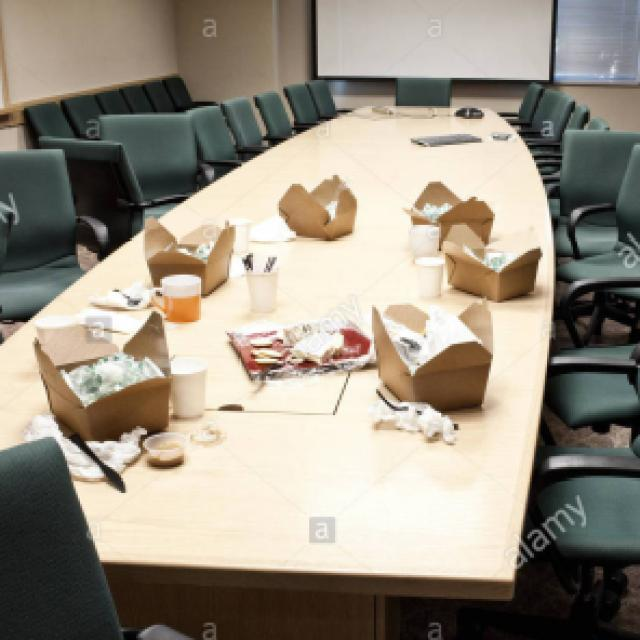mess: (36, 160, 537, 506)
